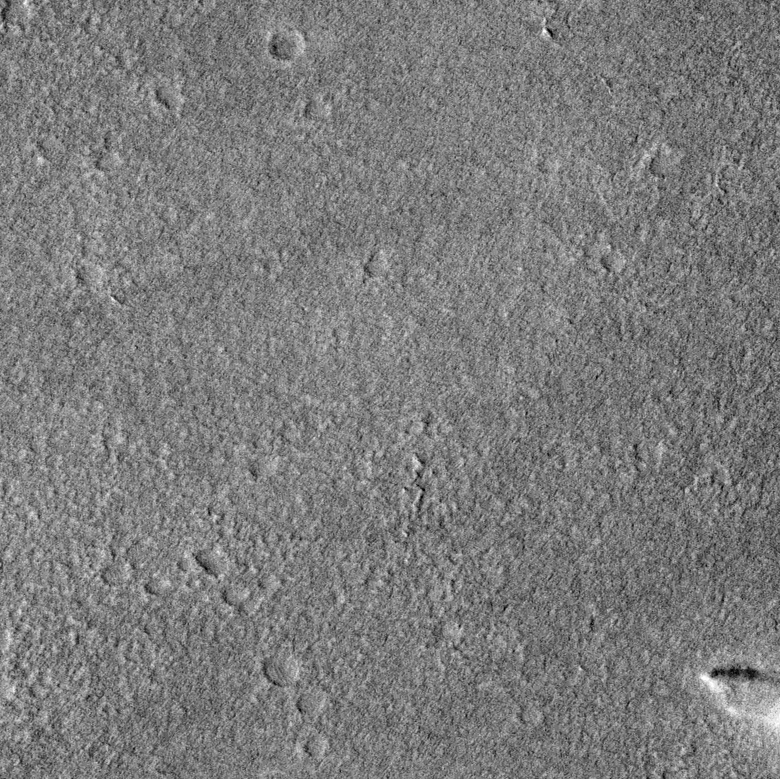dust_devil: (698, 662, 780, 733)
